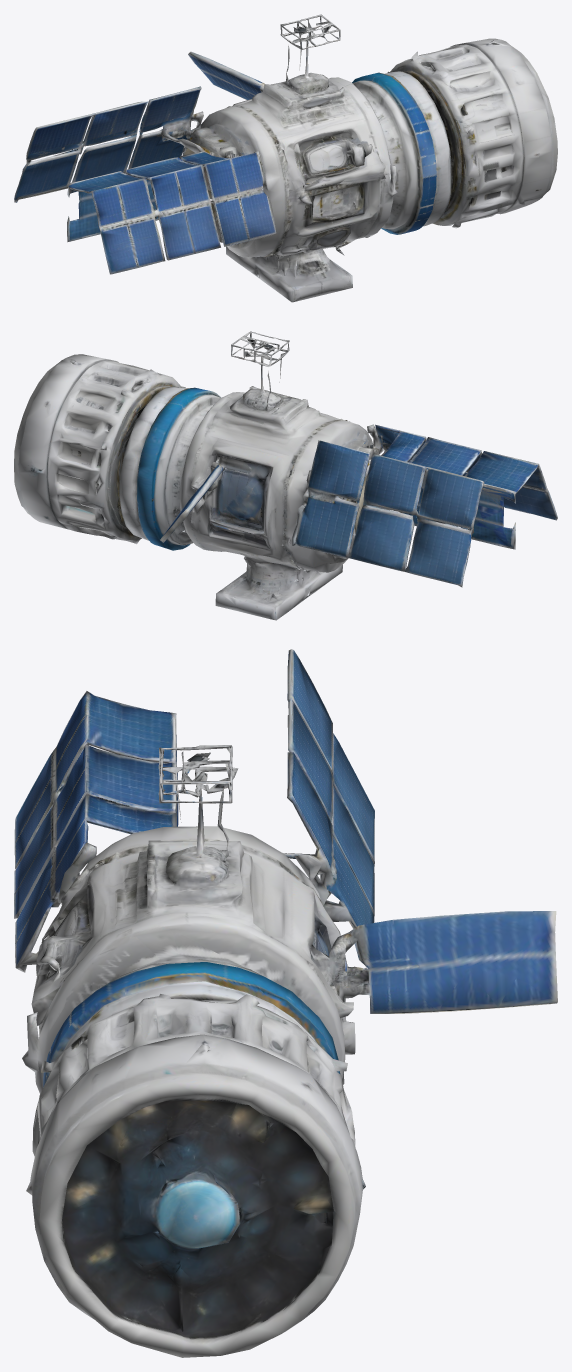
File: ModelBlender_Satelite.glb
3 views of the same model, one above another, from view 1: azimuth 30°, elevation 25°; view 2: azimuth 150°, elevation 25°; view 3: azimuth 270°, elevation 25° (orthographic). The views are drawn at different scales.
Bounding box in the file's own units: 2 × 1.01 × 1.12.
Materials: 1 (1 with a texture image).
